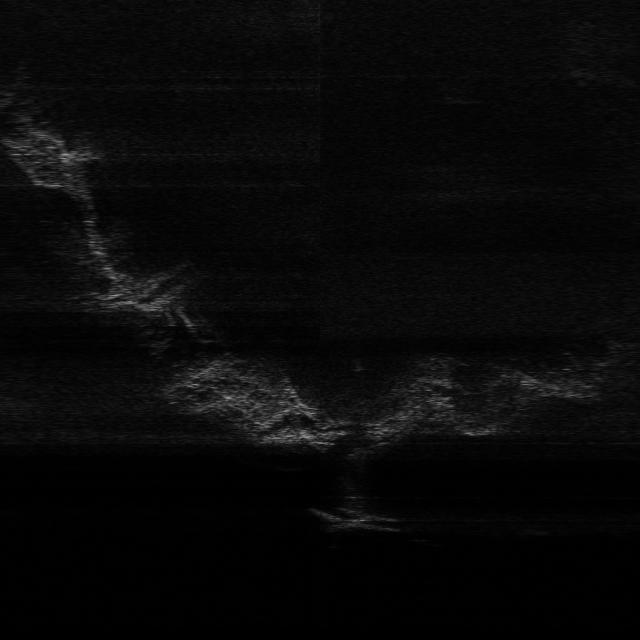plane: (306, 504, 403, 535)
